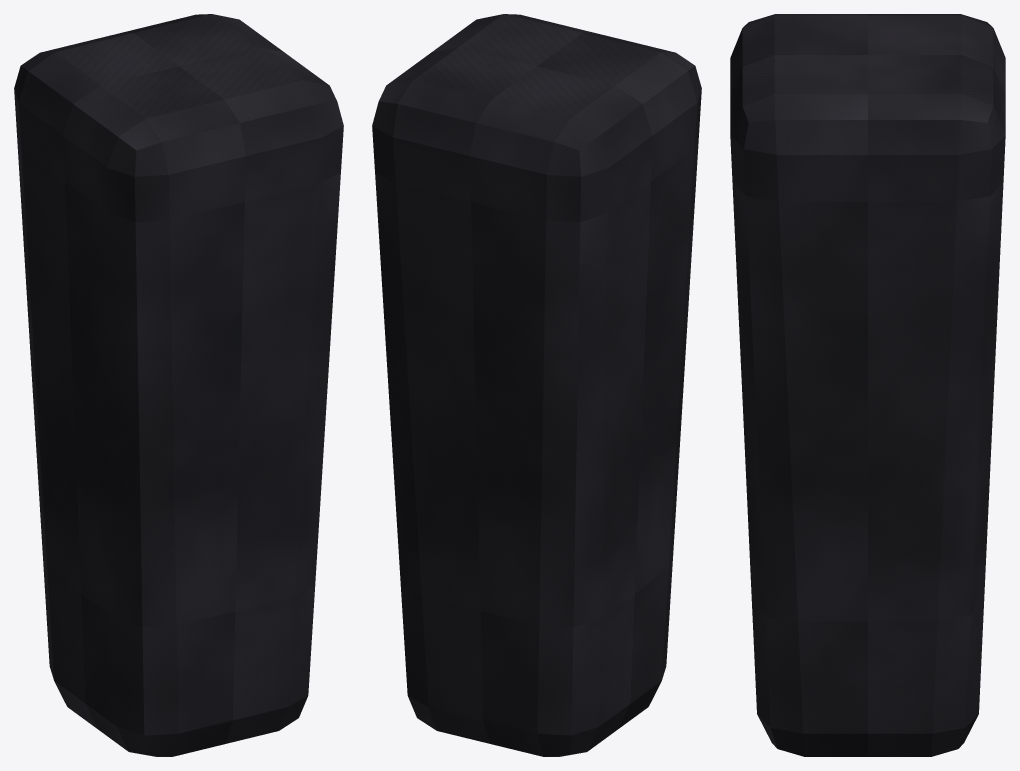
Rendered from Zombie_LegLowerR.obj.
3 views of the same model, side by side, from view 1: azimuth 30°, elevation 25°; view 2: azimuth 150°, elevation 25°; view 3: azimuth 270°, elevation 25° (orthographic). The views are drawn at different scales.
Bounding box in the file's own units: 0.1667 × 0.45 × 0.1667.
1 material, 1 textured.
